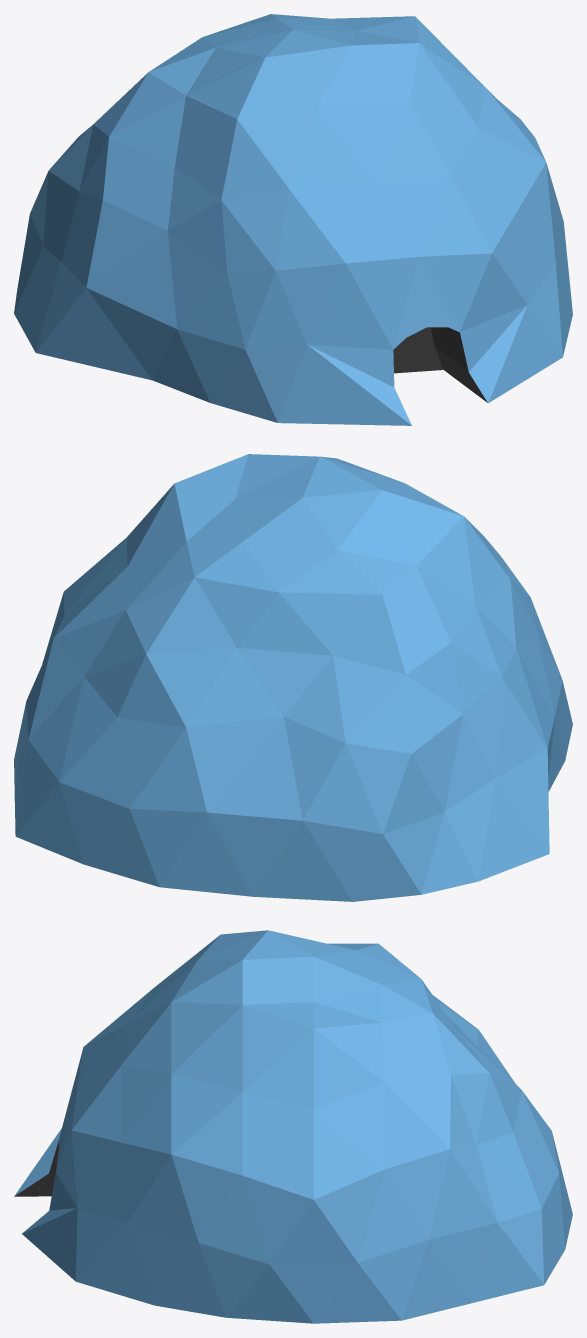
File: IceRock.fbx
3 renders of one model, top to bottom at view 1: azimuth 30°, elevation 25°; view 2: azimuth 150°, elevation 25°; view 3: azimuth 270°, elevation 25°, orthographic. The views are drawn at different scales.
Visible parts, largest first — view 1: Big Rock 2; view 2: Big Rock 2; view 3: Big Rock 2.
Part boxes in pixels (x1,y1,x2,y2): Big Rock 2: [14, 14, 572, 425]; Big Rock 2: [14, 454, 572, 901]; Big Rock 2: [14, 930, 572, 1323].
Size of the model in its own units: 1671 by 922 by 1767.
